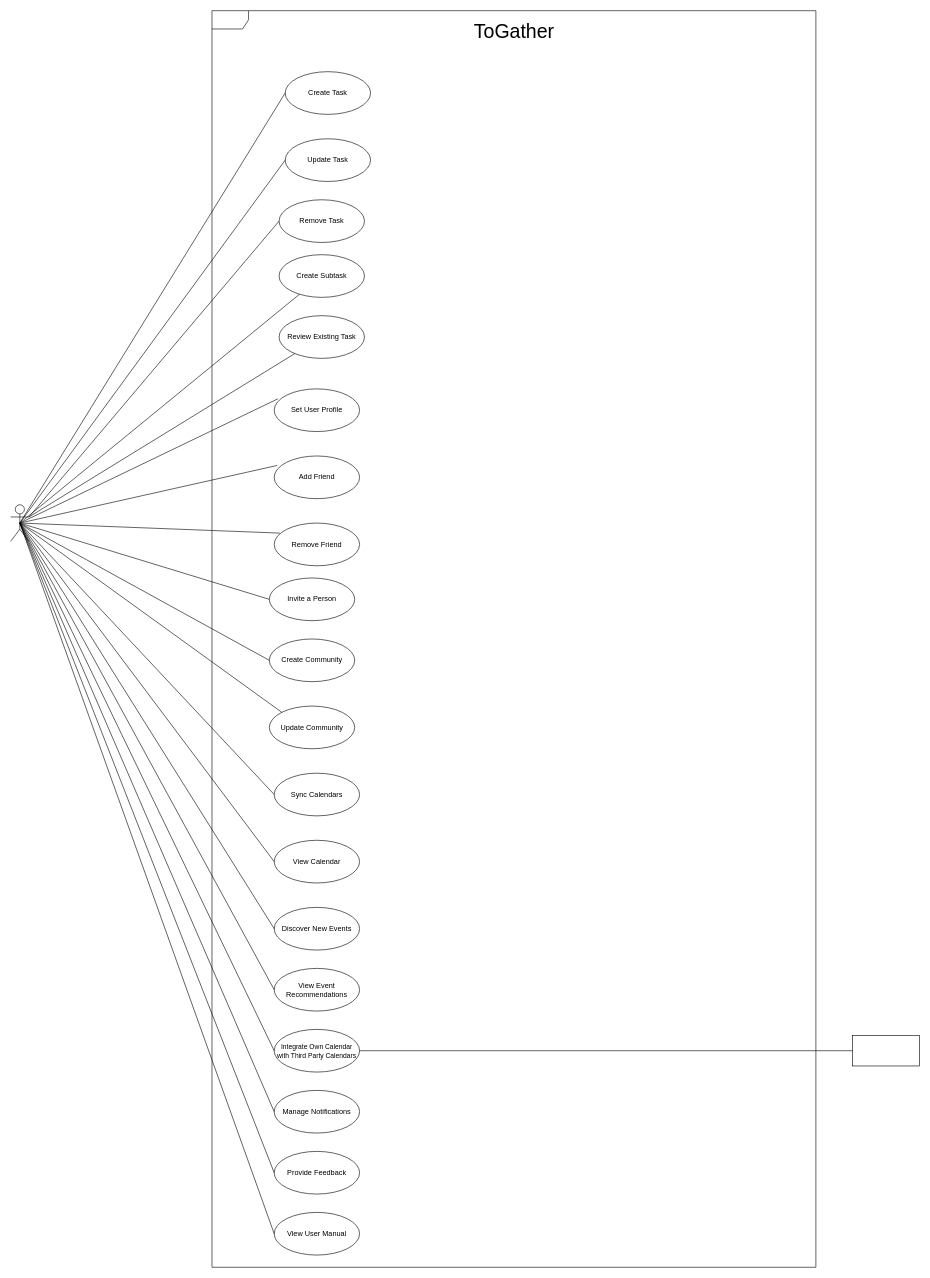
The diagram is 930 pixels wide and 1278 high, and some of its shapes have lost their labels. The shapes that lost their labels are listed below. From the top down, each one's box as (x1, y1, x2, y2) in pixels, then its label:
(10, 504, 29, 541): User
(852, 1035, 920, 1066): "<<actor>>" Calendar Application
